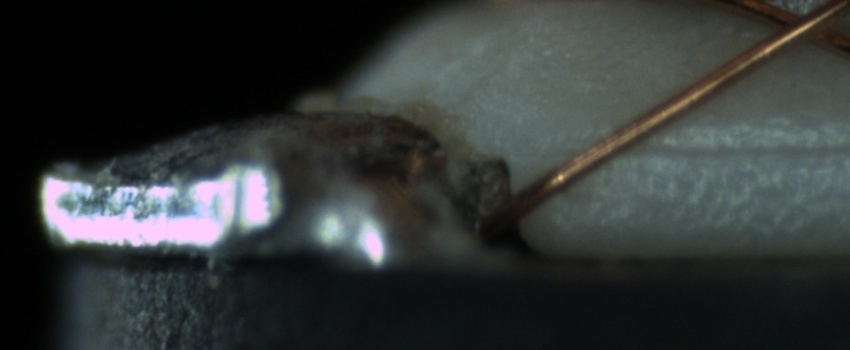CL: (752, 0, 846, 55)
DL: (600, 112, 850, 182)
